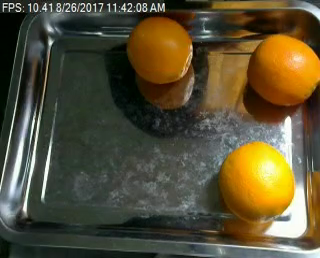Orange: (218, 141, 296, 222), (247, 33, 320, 107), (127, 16, 193, 82)
